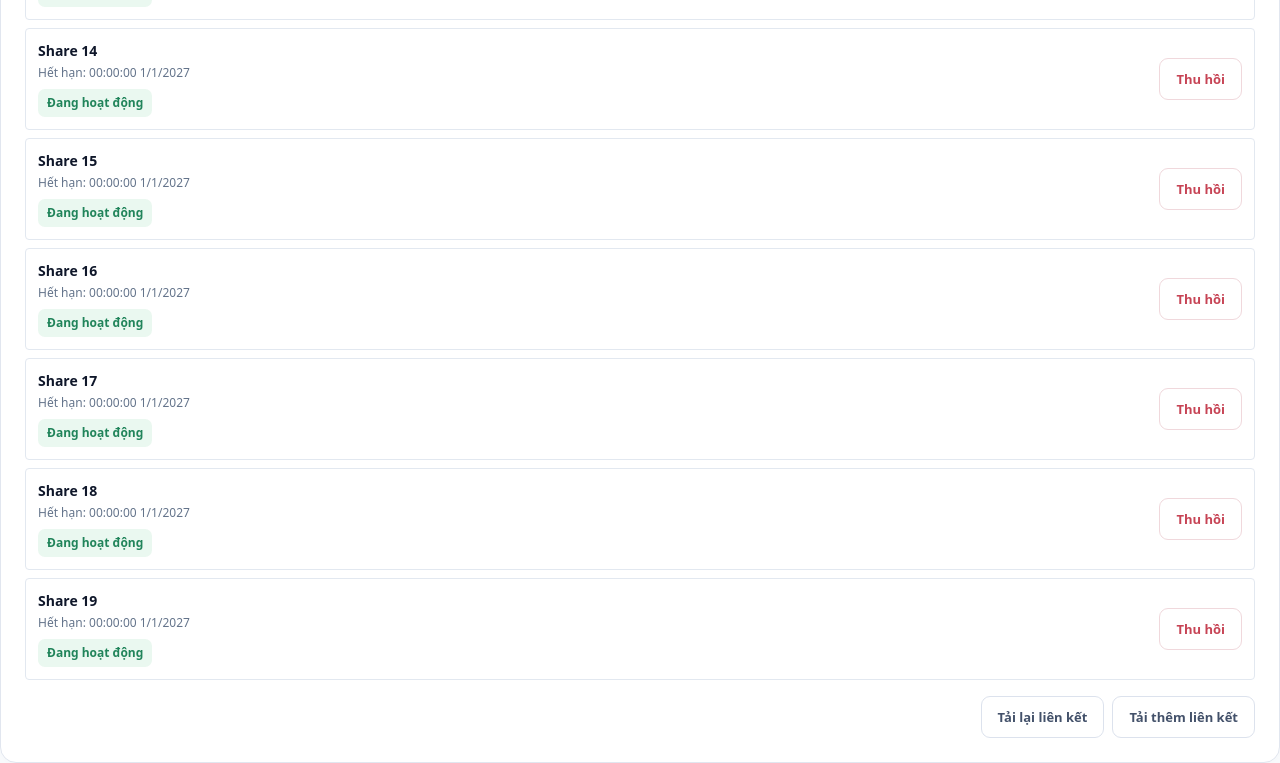
Test: reloads explicitly from offset zero
This screenshot has width=1280, height=763.
(page scrolled)
What coordinates should you click on to do the following:
click the button "Tải lại liên kết"
I would click on:
 (1042, 717)
Its box is [981,696,1104,738].
(page scrolled)
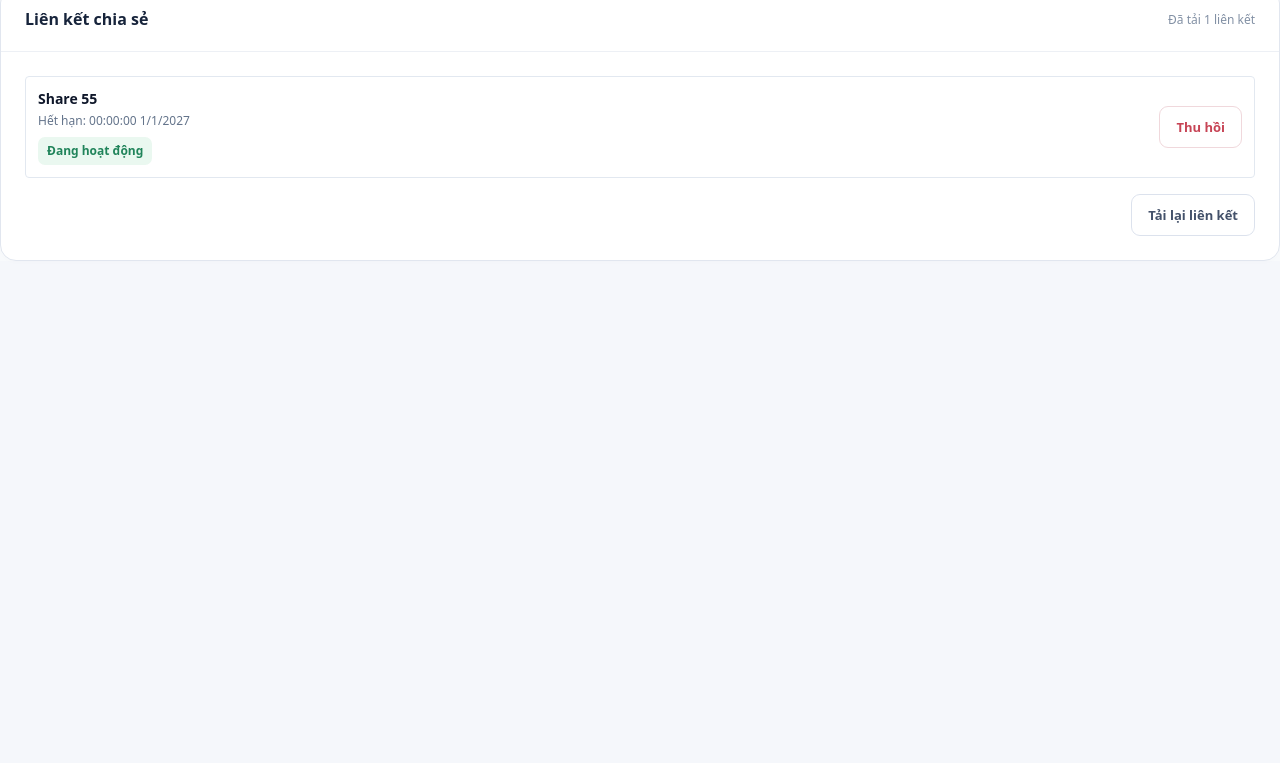
Check: the text "Share 55" is shown, box [38,89,97,108]
